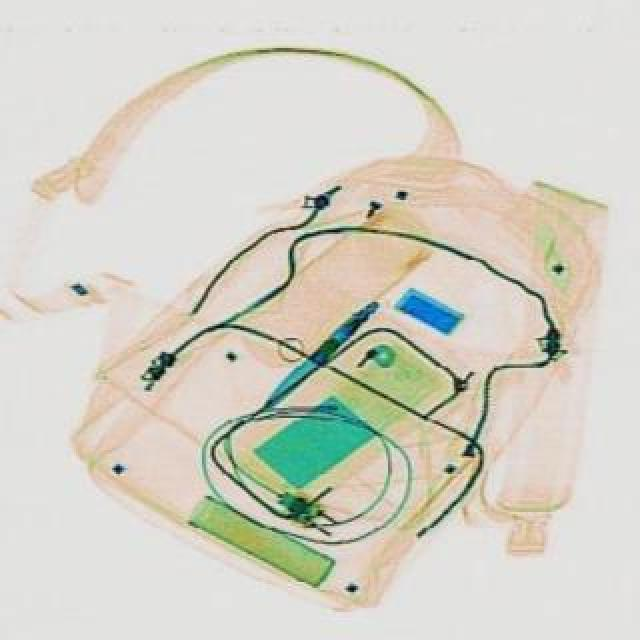knife: (256, 294, 380, 412)
